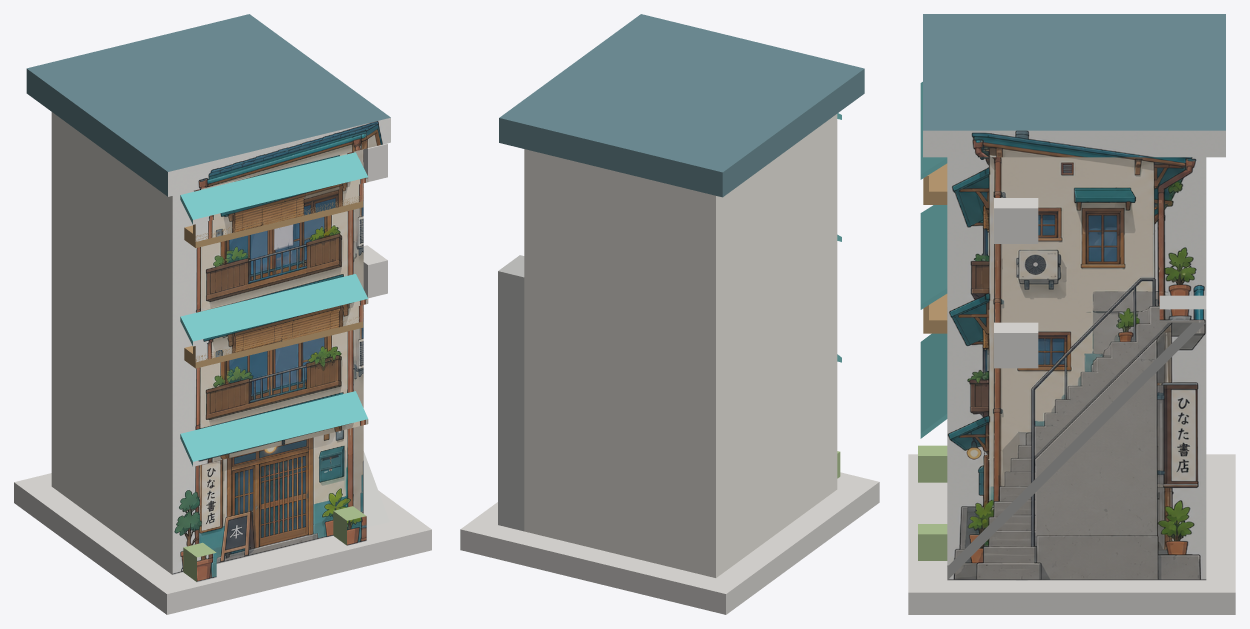
File: hero1.glb
3 renders of one model, left to right at view 1: azimuth 30°, elevation 25°; view 2: azimuth 150°, elevation 25°; view 3: azimuth 270°, elevation 25°, orthographic. The views are drawn at different scales.
Visible parts, largest first — view 1: hero; view 2: hero; view 3: hero.
Part boxes in pixels (x1=…): hero: x1=14, y1=14, x2=431, y2=614; hero: x1=460, y1=14, x2=879, y2=614; hero: x1=908, y1=14, x2=1235, y2=614.
Size of the model in its own units: 0.6678 by 1.05 by 0.668.
9 materials, 2 textured.
